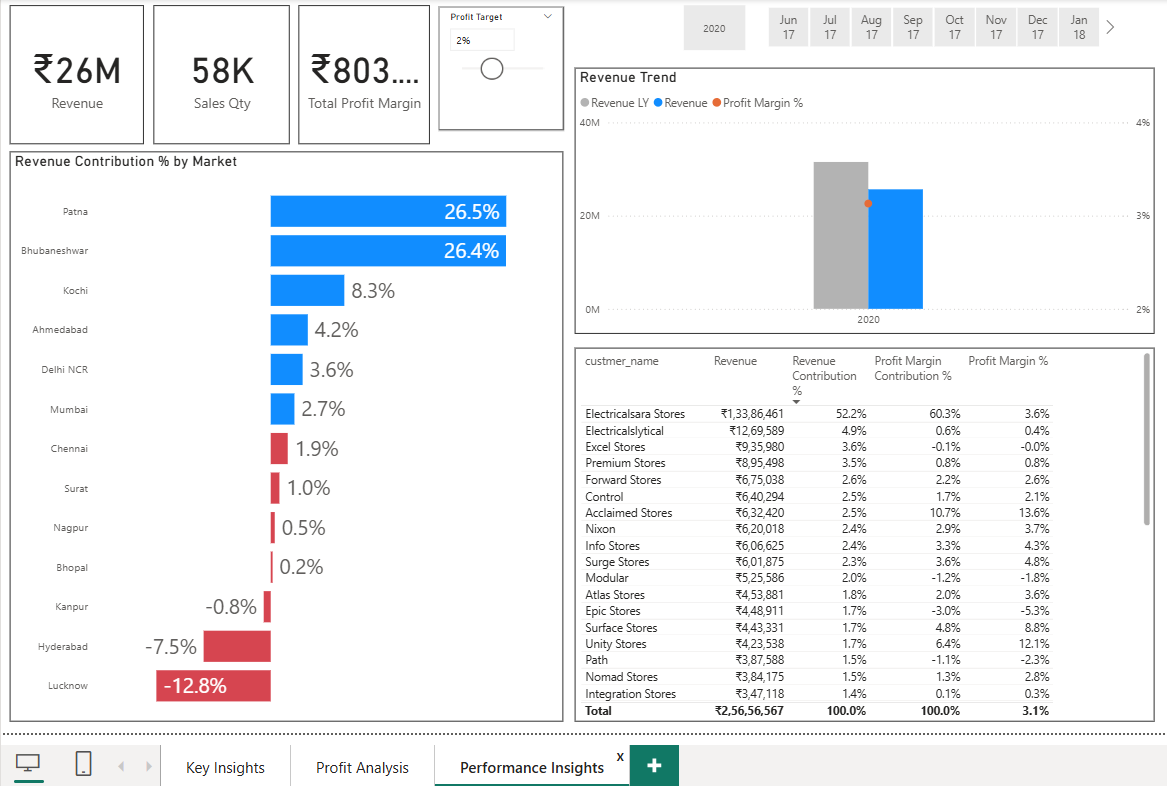

What the dashboard file says about the page in this screenshot:
{"tool":"powerbi","page":{"name":"Performance Insights","canvas":[1350,850],"ordinal":2},"visuals":[{"type":"card","fields":{"Values":["BaseMeasures (2).Revenue"]},"box":[10.1,7.2,154.9,160.6],"z":0},{"type":"card","fields":{"Values":["BaseMeasures (2).Sales Qty"]},"box":[176.6,7.2,157.8,160.6],"z":1000},{"type":"slicer","fields":{"Values":["sales date.year"]},"box":[764.2,0,121.6,66.6],"z":2000},{"type":"slicer","fields":{"Values":["sales date.cy_date"]},"box":[862.6,2.9,432.7,59.3],"z":3000},{"type":"tableEx","title":"Top 5 Customers","fields":{"Values":["sales customers.custmer_name","BaseMeasures (2).Revenue","BaseMeasures (2).Revenue Contribution %","BaseMeasures (2).Profit Margin Contribution %","BaseMeasures (2).Profit Margin %"]},"box":[664.3,403.8,671.5,432.7],"z":4000},{"type":"lineClusteredColumnComboChart","title":"Revenue Trend","fields":{"Category":["sales date.cy_date"],"Y":["BaseMeasures (2).Revenue LY","BaseMeasures (2).Revenue"],"Y2":["BaseMeasures (2).Profit Margin %"]},"box":[664.3,79.6,671.5,308.3],"z":5000},{"type":"card","fields":{"Values":["BaseMeasures (2).Total Profit Margin"]},"box":[344.4,7.2,152,160.6],"z":6000},{"type":"barChart","title":"Revenue Contribution % by Market","fields":{"Y":["BaseMeasures (2).Profit Margin %"],"Category":["sales markets.zone","sales markets.markets_name","sales customers.custmer_name","sales products.product_code"]},"box":[10.1,176.6,641.1,660],"z":7000},{"type":"slicer","fields":{"Values":["Profit Target.Profit Target"]},"box":[506.5,8.7,144.7,143.3],"z":8000}]}

Visuals, with their boxes in screenshot pixels (x1, y1, x2, y2):
card - BaseMeasures (2).Revenue: 12,9,144,146
card - BaseMeasures (2).Sales Qty: 154,9,288,146
slicer - sales date.year: 655,3,758,60
slicer - sales date.cy_date: 738,6,1107,56
"Top 5 Customers" tableEx: 569,347,1142,716
"Revenue Trend" lineClusteredColumnComboChart: 569,71,1142,334
card - BaseMeasures (2).Total Profit Margin: 297,9,426,146
"Revenue Contribution % by Market" barChart: 12,154,558,716
slicer - Profit Target.Profit Target: 435,10,558,133
